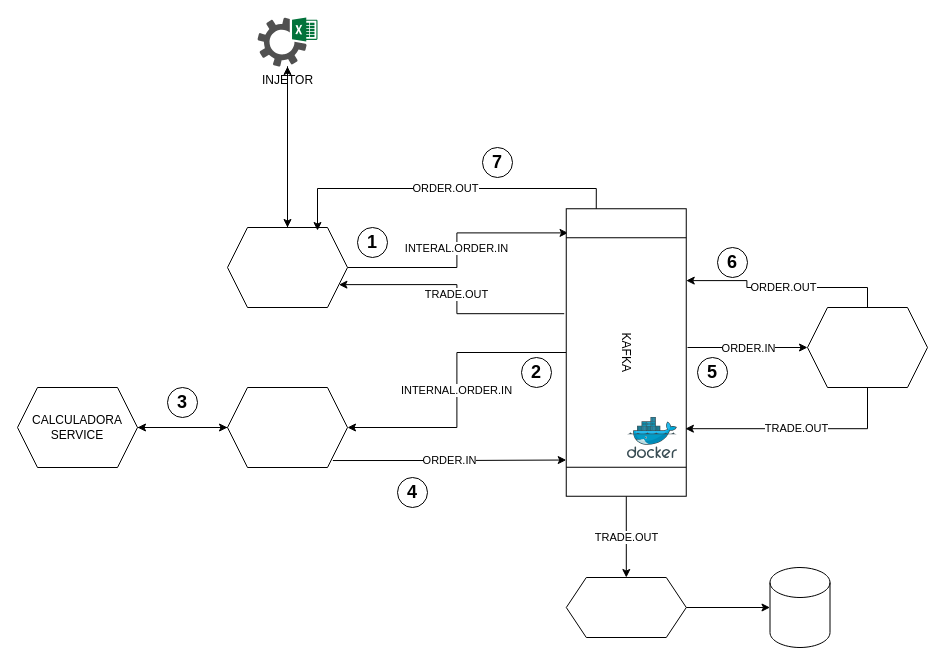
This 945x665 diagram has some shape labels left out. Each missing label, with the centre of its shape:
"BLOTTER SERVICE" belongs at (625,607).
"FIX SERVICE" belongs at (287,267).
"MATCH ENGINE SERVICE" belongs at (867,347).
"ORDER SERVICE" belongs at (287,427).
